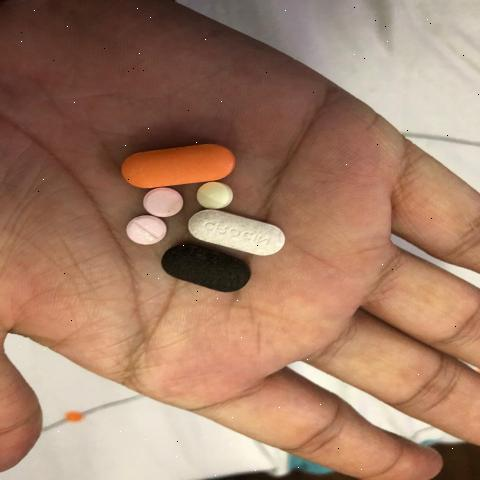Pill: (192, 210, 295, 254), (141, 186, 194, 215), (192, 183, 241, 211), (122, 218, 169, 247), (128, 217, 168, 244)
